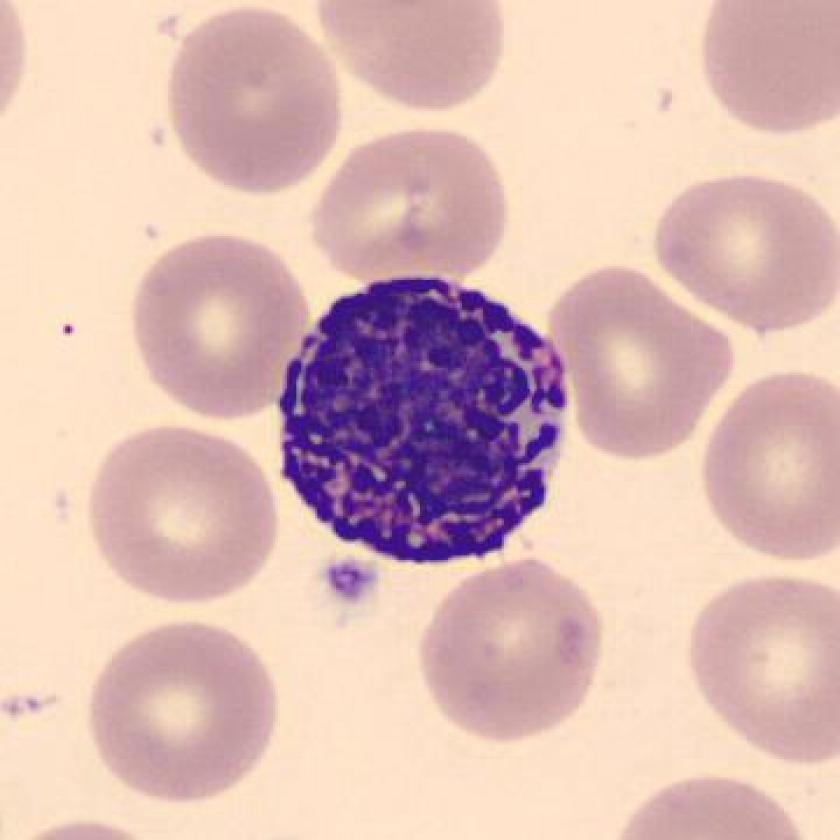basophil: (272, 269, 577, 575)
